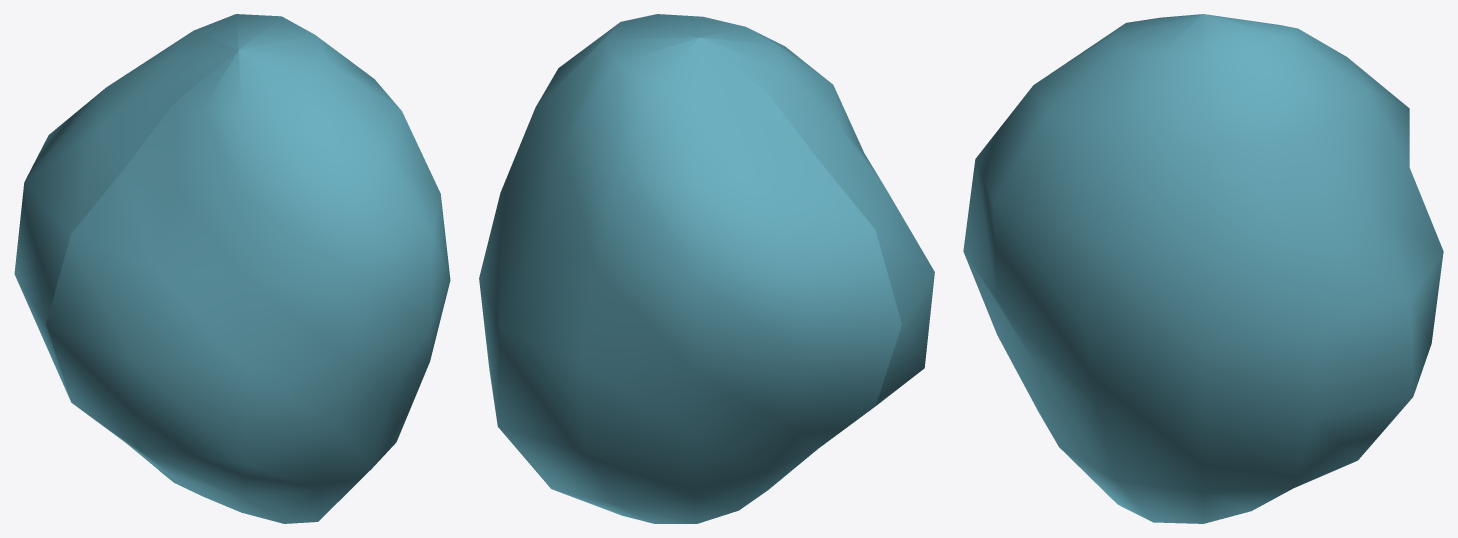
The model's file is left_triquetrum.glb.
3 renders of one model, left to right at view 1: azimuth 30°, elevation 25°; view 2: azimuth 150°, elevation 25°; view 3: azimuth 270°, elevation 25°, orthographic. The views are drawn at different scales.
Parts seen in each view (by area): view 1: left_triquetrum:body; view 2: left_triquetrum:body; view 3: left_triquetrum:body.
Part boxes in pixels (x1,y1,x2,y2): left_triquetrum:body: (14,14,450,523); left_triquetrum:body: (479,14,934,523); left_triquetrum:body: (963,14,1443,523).
Bounding box in the file's own units: 0.0514 × 0.0588 × 0.0539.
